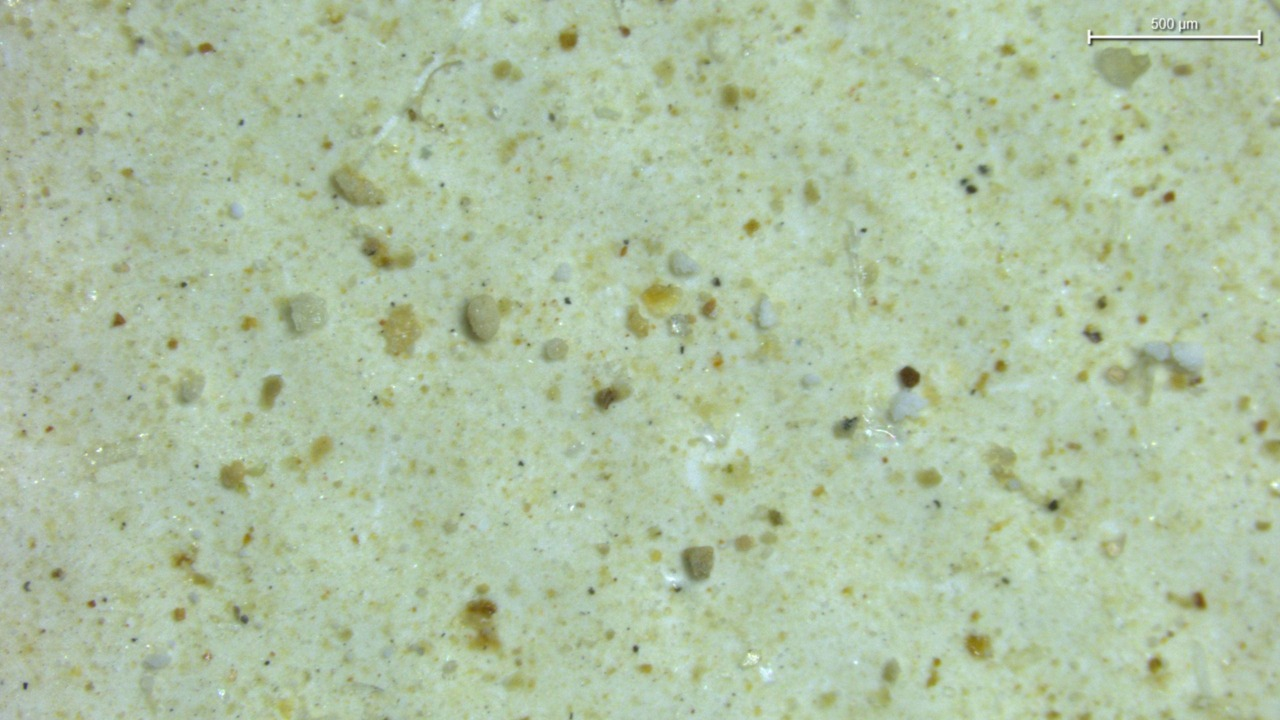microplastic_fragment: (332, 166, 384, 205), (465, 295, 500, 341), (288, 293, 326, 333), (888, 389, 929, 422), (1172, 342, 1204, 376), (670, 252, 700, 278), (753, 298, 777, 328), (1144, 342, 1170, 361)
